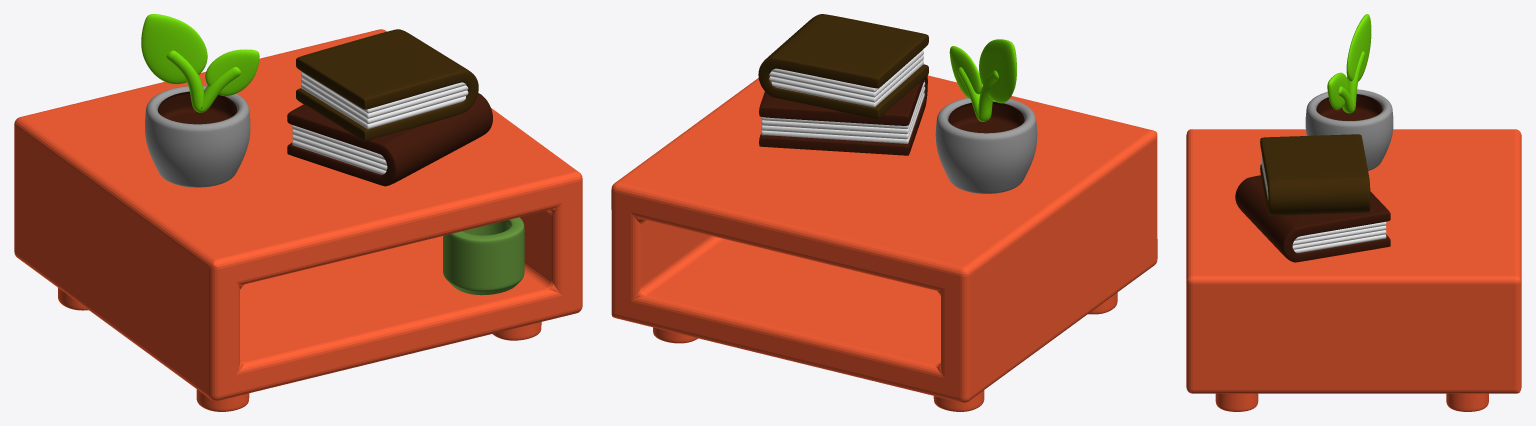
File: 18. Table.fbx
3 renders of one model, left to right at view 1: azimuth 30°, elevation 25°; view 2: azimuth 150°, elevation 25°; view 3: azimuth 270°, elevation 25°, orthographic. The views are drawn at different scales.
Parts seen in each view (by area): view 1: Cube.065, Switch.006, Cylinder.019, Switch.004, Cube.067, Plane.023, Plane.020, Plane.022, Plane.021, Cube.066, Cylinder.020; view 2: Cube.065, Switch.006, Cylinder.019, Switch.004, Plane.022, Plane.023, Plane.020, Cube.066, Cylinder.020, Plane.021; view 3: Cube.065, Switch.006, Switch.004, Cylinder.019, Plane.022, Cube.066, Plane.020, Cylinder.020, Plane.021.
Part boxes in pixels (box(x1,y1,x2,y2)): Cube.065: box(14, 29, 582, 401); Switch.006: box(296, 29, 478, 141); Cylinder.019: box(145, 86, 250, 187); Switch.004: box(287, 93, 492, 186); Cube.067: box(443, 217, 524, 295); Plane.023: box(301, 71, 468, 129); Plane.020: box(141, 14, 207, 84); Plane.022: box(292, 125, 387, 174); Plane.021: box(205, 49, 259, 95); Cube.066: box(58, 288, 541, 411); Cylinder.020: box(166, 50, 240, 112); Cube.065: box(611, 75, 1157, 402); Switch.006: box(758, 14, 928, 118); Cylinder.019: box(935, 98, 1037, 193); Switch.004: box(759, 76, 927, 155); Plane.022: box(761, 80, 925, 143); Plane.023: box(769, 49, 923, 107); Plane.020: box(979, 39, 1016, 103); Cube.066: box(653, 292, 1117, 411); Cylinder.020: box(957, 67, 998, 121); Plane.021: box(949, 46, 982, 98); Cube.065: box(1186, 129, 1521, 393); Switch.006: box(1260, 134, 1370, 215); Switch.004: box(1235, 175, 1390, 262); Cylinder.019: box(1305, 89, 1393, 170); Plane.022: box(1292, 221, 1386, 253); Cube.066: box(1215, 393, 1488, 411); Plane.020: box(1346, 14, 1371, 81); Cylinder.020: box(1338, 51, 1365, 113); Plane.021: box(1327, 72, 1348, 109).
Bounding box in the file's own units: 215 × 182 × 202.
